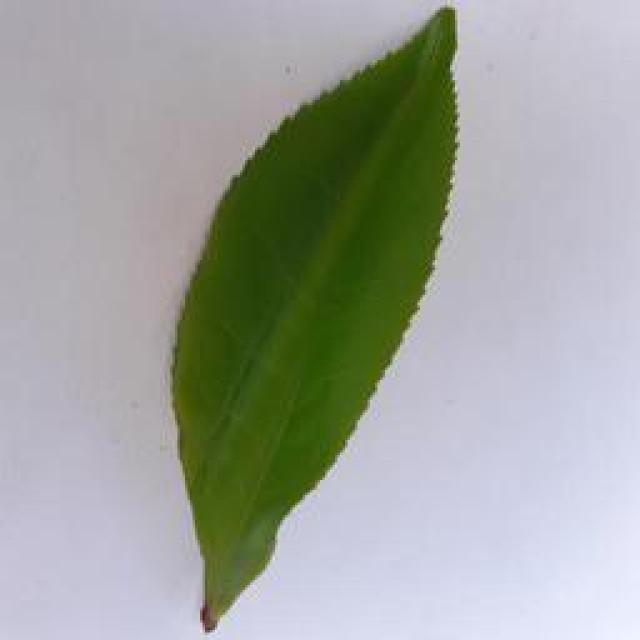Healthy: (149, 11, 465, 632)
